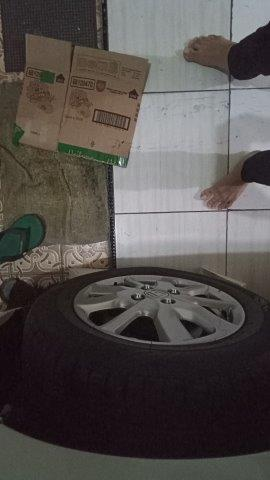kardus: (16, 35, 149, 167)
